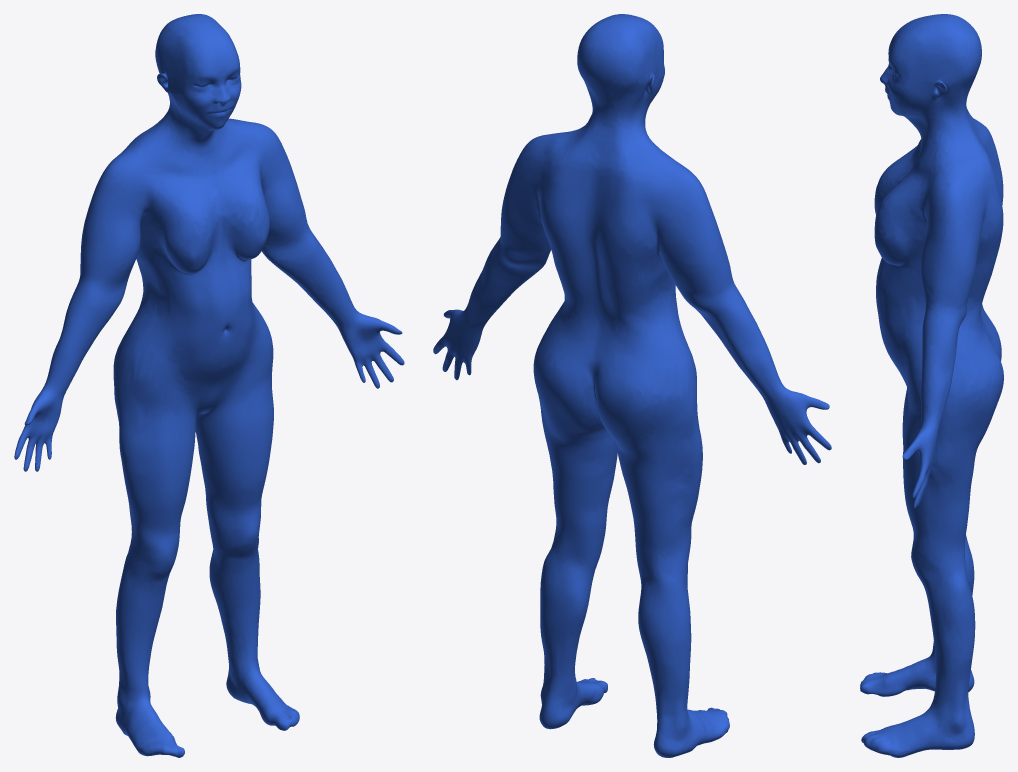
Rendered from skin.glb.
3 views of the same model, side by side, from view 1: azimuth 30°, elevation 25°; view 2: azimuth 150°, elevation 25°; view 3: azimuth 270°, elevation 25° (orthographic). The views are drawn at different scales.
Visible parts, largest first — view 1: VH_F_skin; view 2: VH_F_skin; view 3: VH_F_skin.
Boxes of the visible parts, x1=… form: VH_F_skin: x1=14, y1=14, x2=404, y2=757; VH_F_skin: x1=433, y1=14, x2=831, y2=757; VH_F_skin: x1=860, y1=14, x2=1003, y2=757.
Bounding box in the file's own units: 0.967 × 1.67 × 0.3078.
